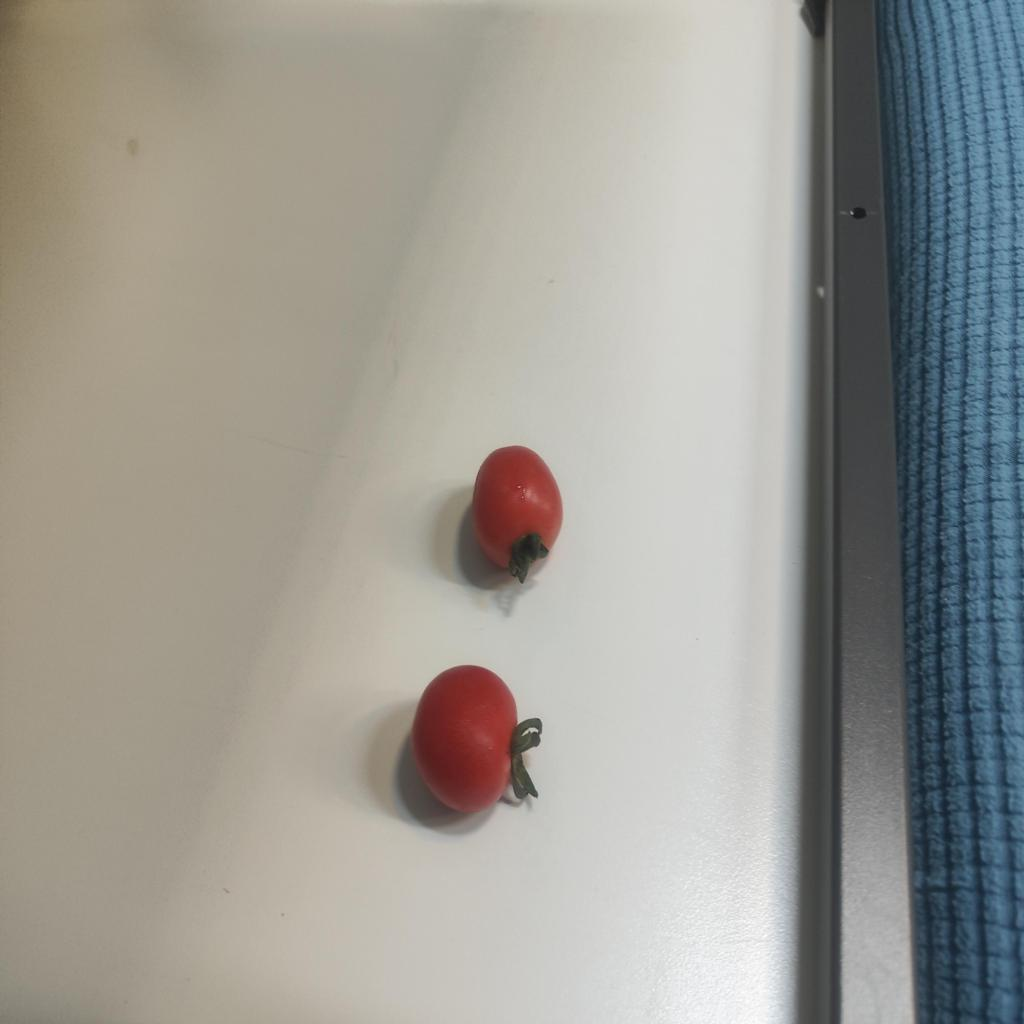tomato: (410, 665, 527, 816), (472, 450, 568, 568)
